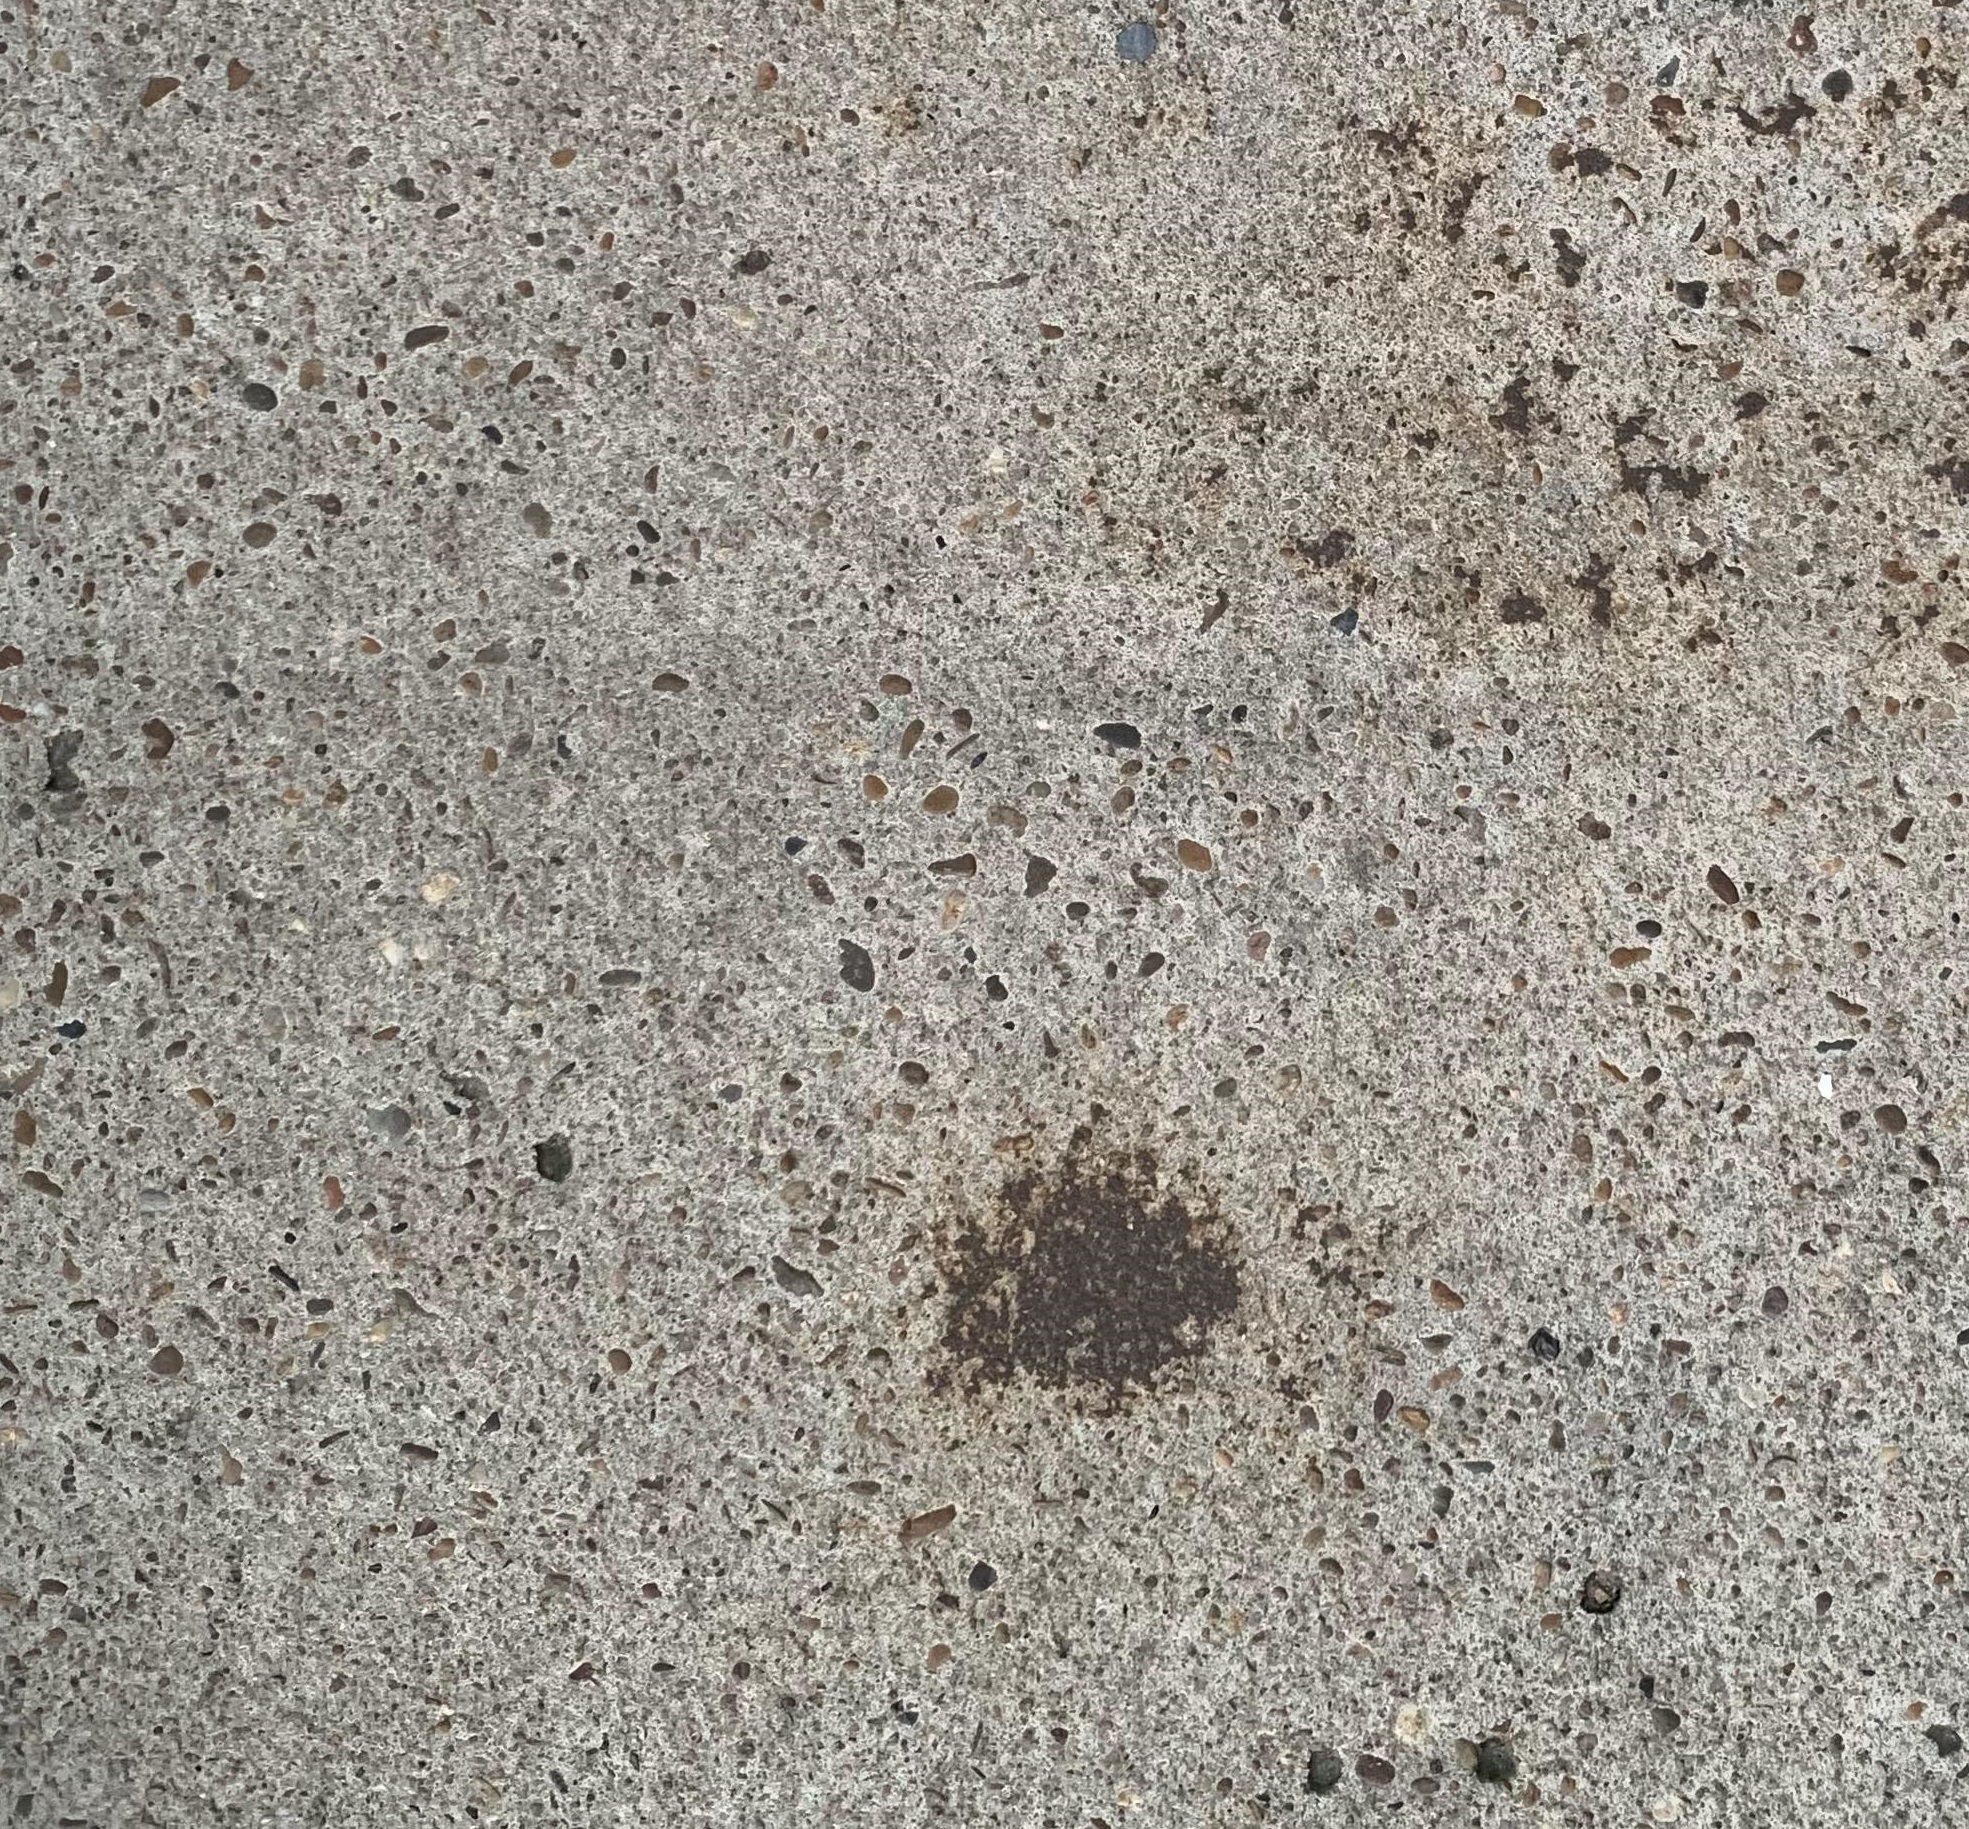grey spot: (917, 1135, 1247, 1422)
